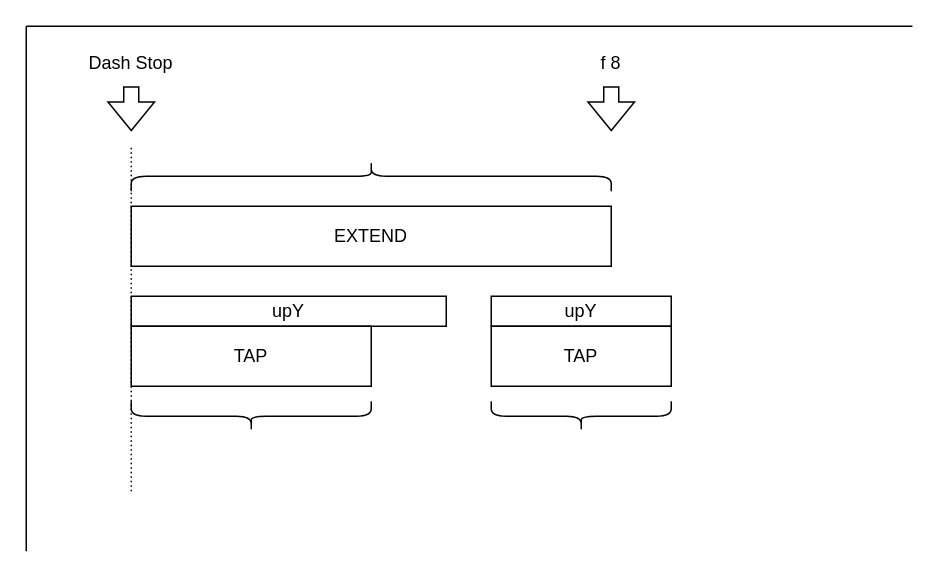
Image size: 941x579. Some labels were removed from this diagram. Here are the shapes that lost their labels. From the top down, the centre of each, then its label:
At (370,175): "8 frames".
At (250,415): "4 frames".
At (580,415): "< 4 frames".
